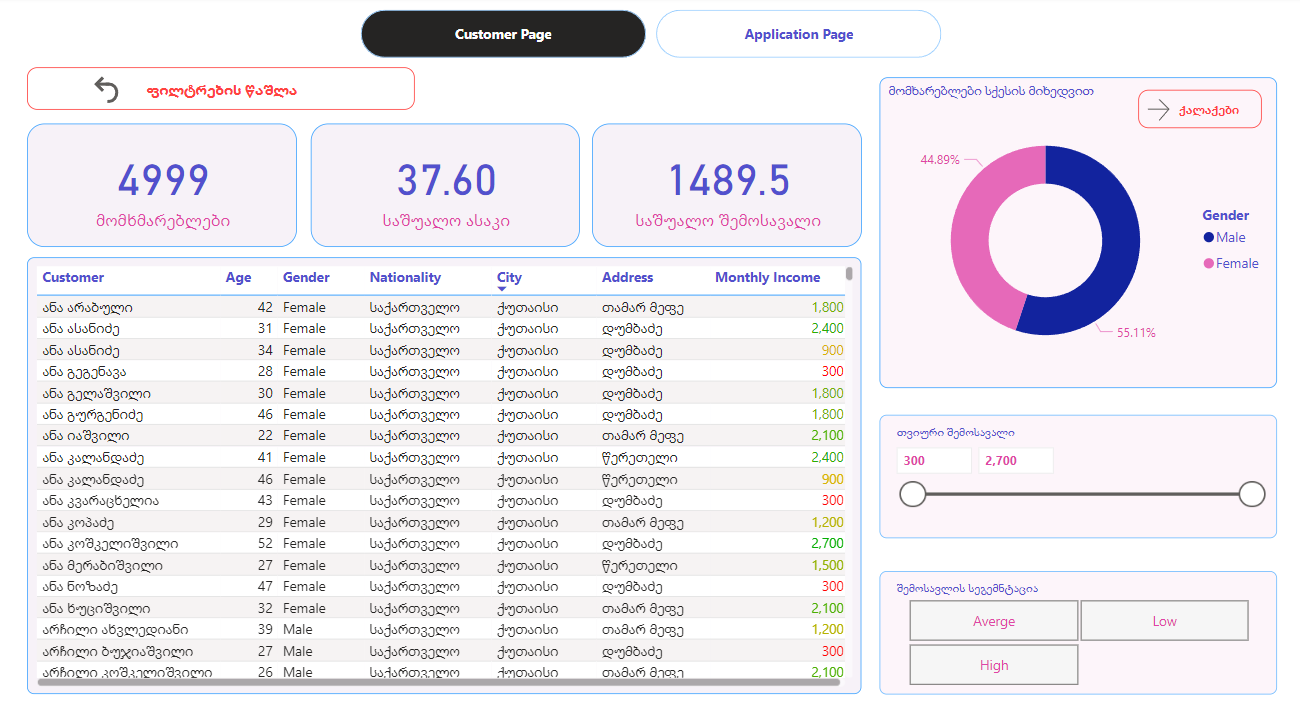

This screenshot's page, from the dashboard's own definition file:
{"tool":"powerbi","page":{"name":"Customer Page","canvas":[1280,720],"ordinal":0},"visuals":[{"type":"card","fields":{"Values":["Measure Table.custumers"]},"box":[29.3,124.7,264,121],"z":0},{"type":"donutChart","title":"მომხარებლები სქესის მიხედვით","fields":{"Category":["custumer data.Gender"],"Y":["Measure Table.მომხმარებლები"]},"box":[862.8,80,388.9,304],"z":1000},{"type":"slicer","fields":{"Values":["Customer data.Monthly Income"]},"box":[862.8,409.8,388.9,120.6],"z":2000},{"type":"tableEx","fields":{"Values":["custumer data.Customer","custumer data.Age","custumer data.Gender","custumer data.Nationality","custumer data.City","custumer data.Address","custumer data.Monthly Income"]},"box":[29.5,256,816,427.1],"z":3000},{"type":"card","fields":{"Values":["Measure Table.საშუალო ასაკი"]},"box":[306.8,124.7,262.8,121],"z":4000},{"type":"card","fields":{"Values":["Measure Table.საშუალო შემოსავალი"]},"box":[581.9,124.7,264,121],"z":5000},{"type":"slicer","fields":{"Values":["custumer data.Incom Range"]},"box":[862.8,562.5,388.9,120.6],"z":6000},{"type":"pageNavigator","box":[355.7,13.4,569.6,47.7],"z":7000},{"type":"actionButton","box":[29.3,69.7,378.9,41.6],"z":8000},{"type":"actionButton","box":[1116.3,91.9,120.8,37.4],"z":10000}]}

Visuals, with their boxes in screenshot pixels (x1, y1, x2, y2), scaled from the page's 1280x720 canvas onto the 1300x723 screenshot:
card - Measure Table.custumers: bbox(30, 125, 298, 247)
"მომხარებლები სქესის მიხედვით" donutChart: bbox(876, 80, 1271, 386)
slicer - Customer data.Monthly Income: bbox(876, 412, 1271, 533)
tableEx - custumer data.Customer x custumer data.Age: bbox(30, 257, 859, 686)
card - Measure Table.საშუალო ასაკი: bbox(312, 125, 578, 247)
card - Measure Table.საშუალო შემოსავალი: bbox(591, 125, 859, 247)
slicer - custumer data.Incom Range: bbox(876, 565, 1271, 686)
pageNavigator: bbox(361, 13, 940, 61)
actionButton: bbox(30, 70, 415, 112)
actionButton: bbox(1134, 92, 1256, 130)
